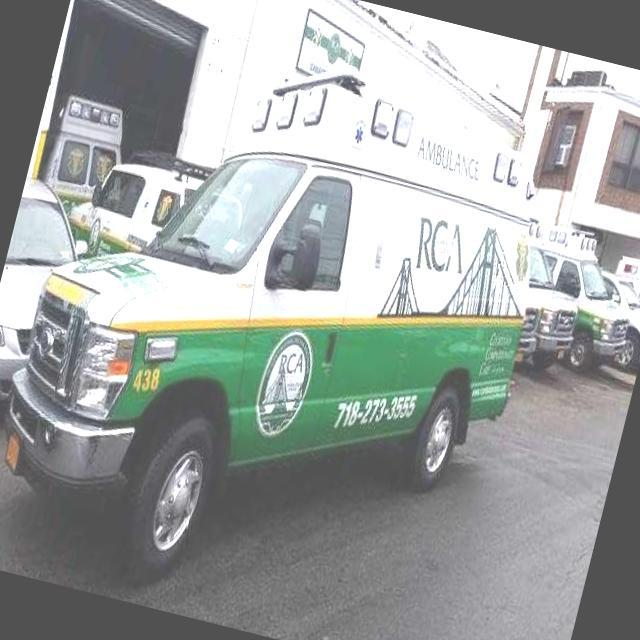emergency-vehicle: (0, 29, 569, 640)
